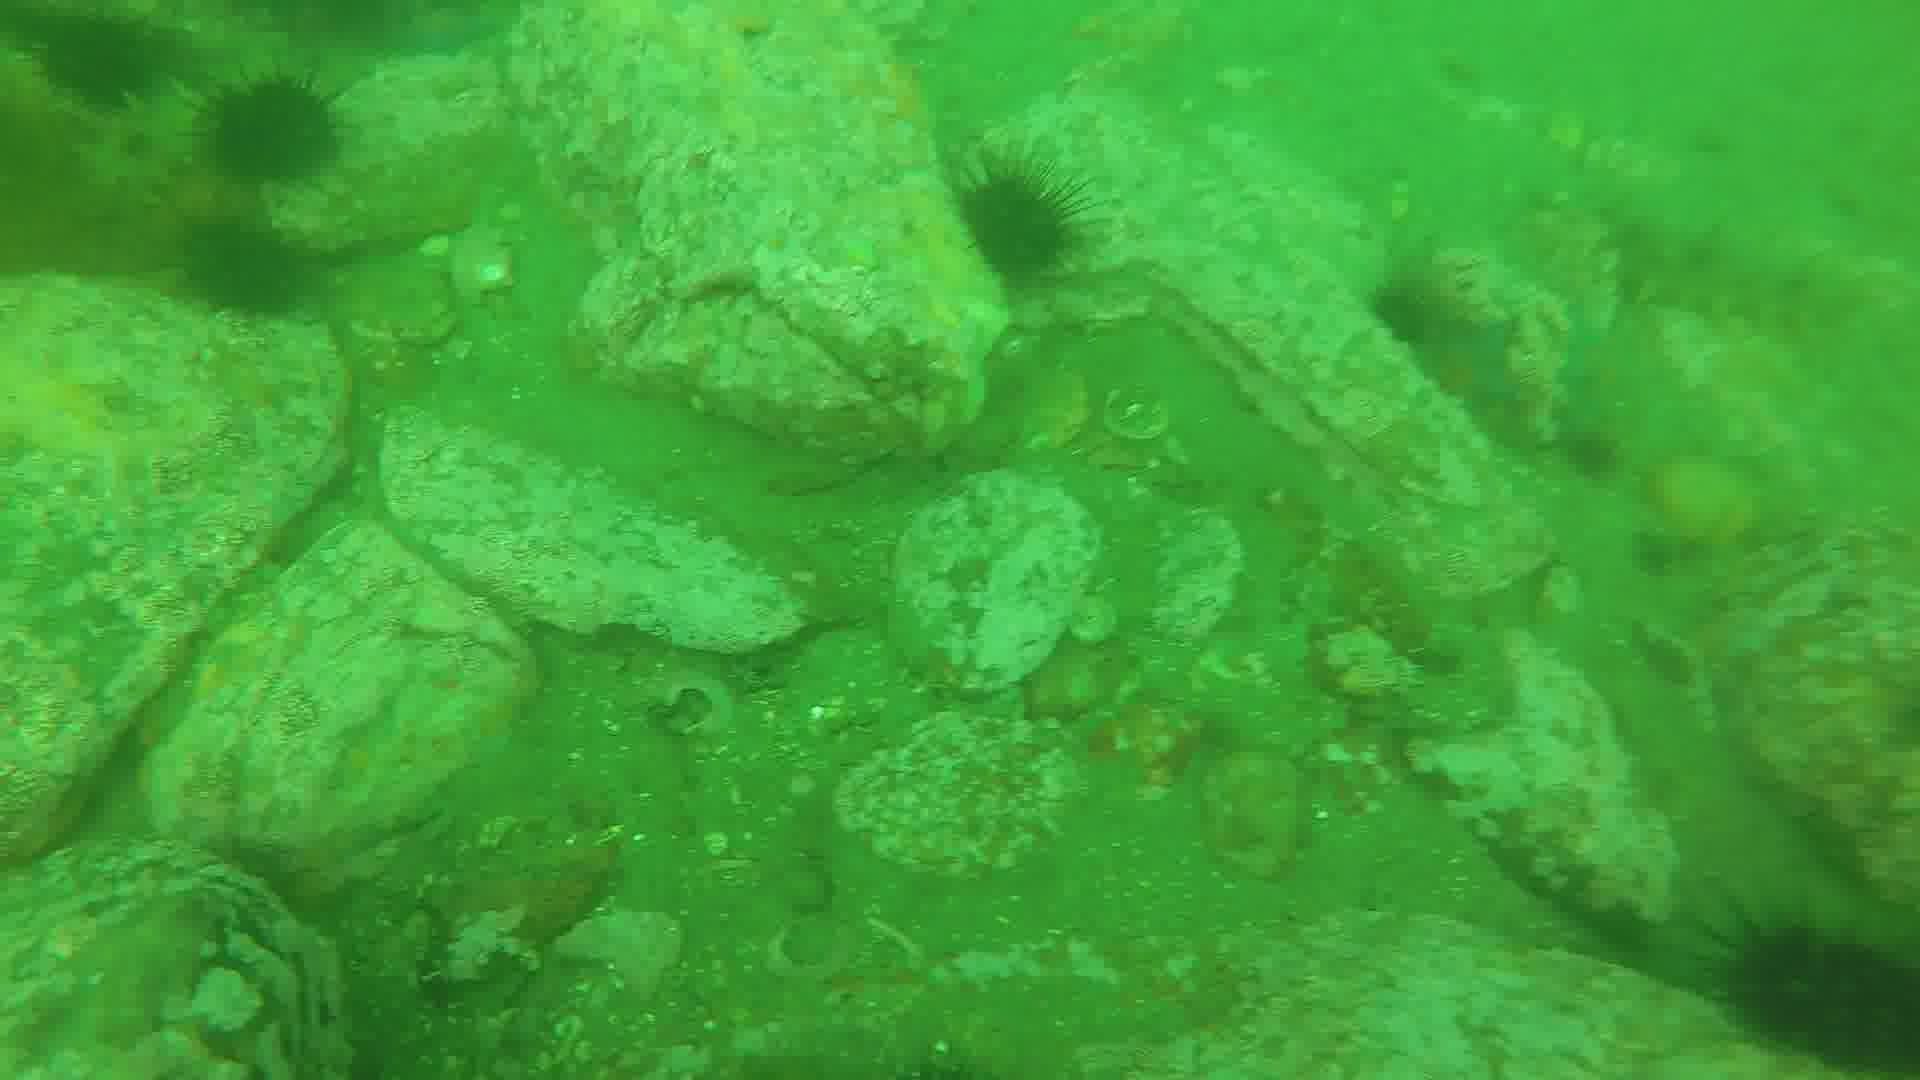echinus: (1705, 909, 1920, 1080), (953, 160, 1088, 287), (34, 1, 183, 115), (199, 78, 345, 185), (179, 215, 313, 328), (1371, 285, 1435, 351)
holothurian: (1606, 212, 1840, 328)
starfish: (1400, 320, 1527, 425)
